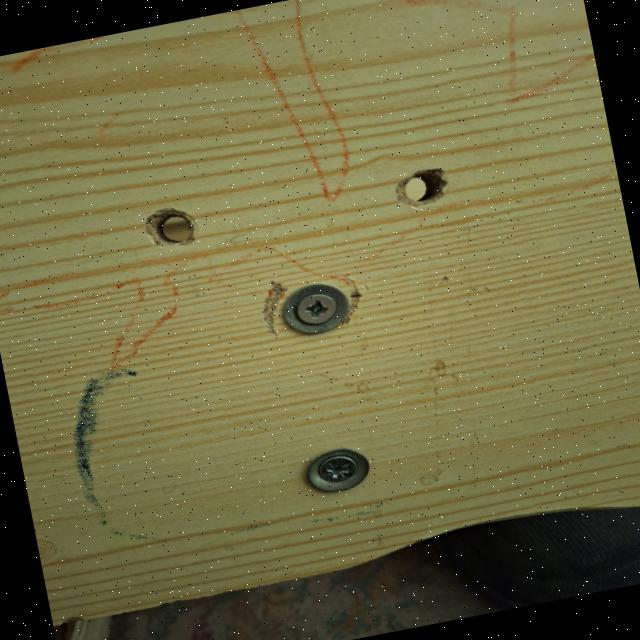Pozidriv: (293, 290, 342, 328), (318, 454, 356, 484)
